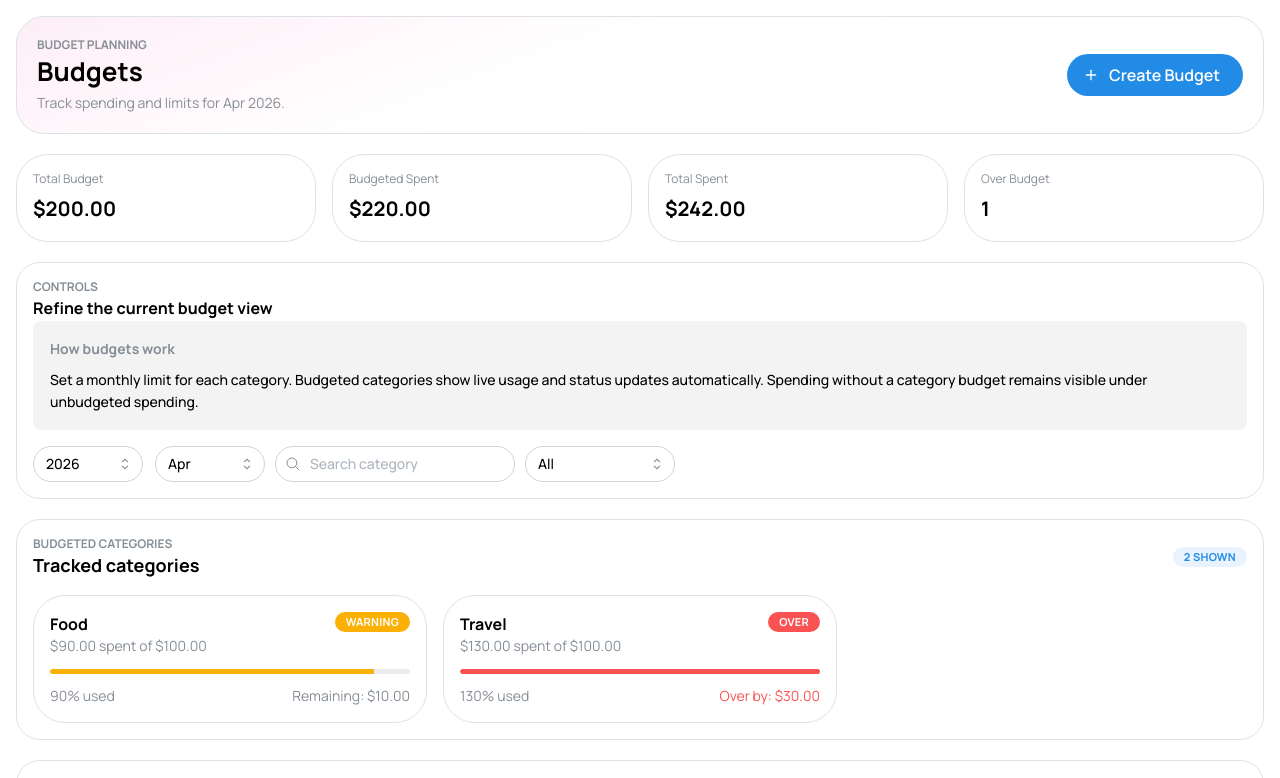
it: BudgetsPage › renders fetched budget data and filters tracked categories by search
Expected: the heading "Tracked categories" is shown, top-left (33, 552), bottom-right (200, 578)
Expected: the text "Food" is shown, top-left (50, 612), bottom-right (88, 634)
Type "food" into the field with placeholder "Search category" at (395,464), box top-left (275, 446), bottom-right (515, 482)
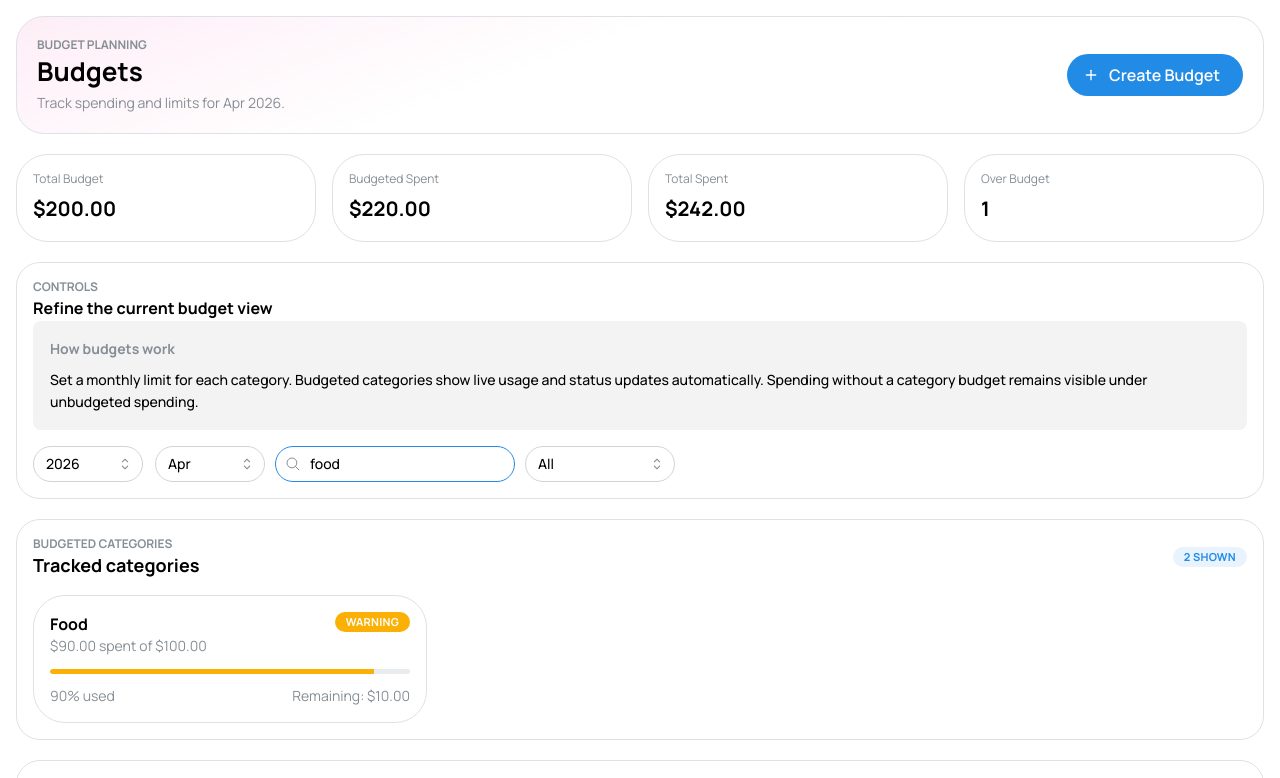
Expected: the text "Food" is shown, top-left (50, 612), bottom-right (88, 634)
Now the text "Travel" is gone
